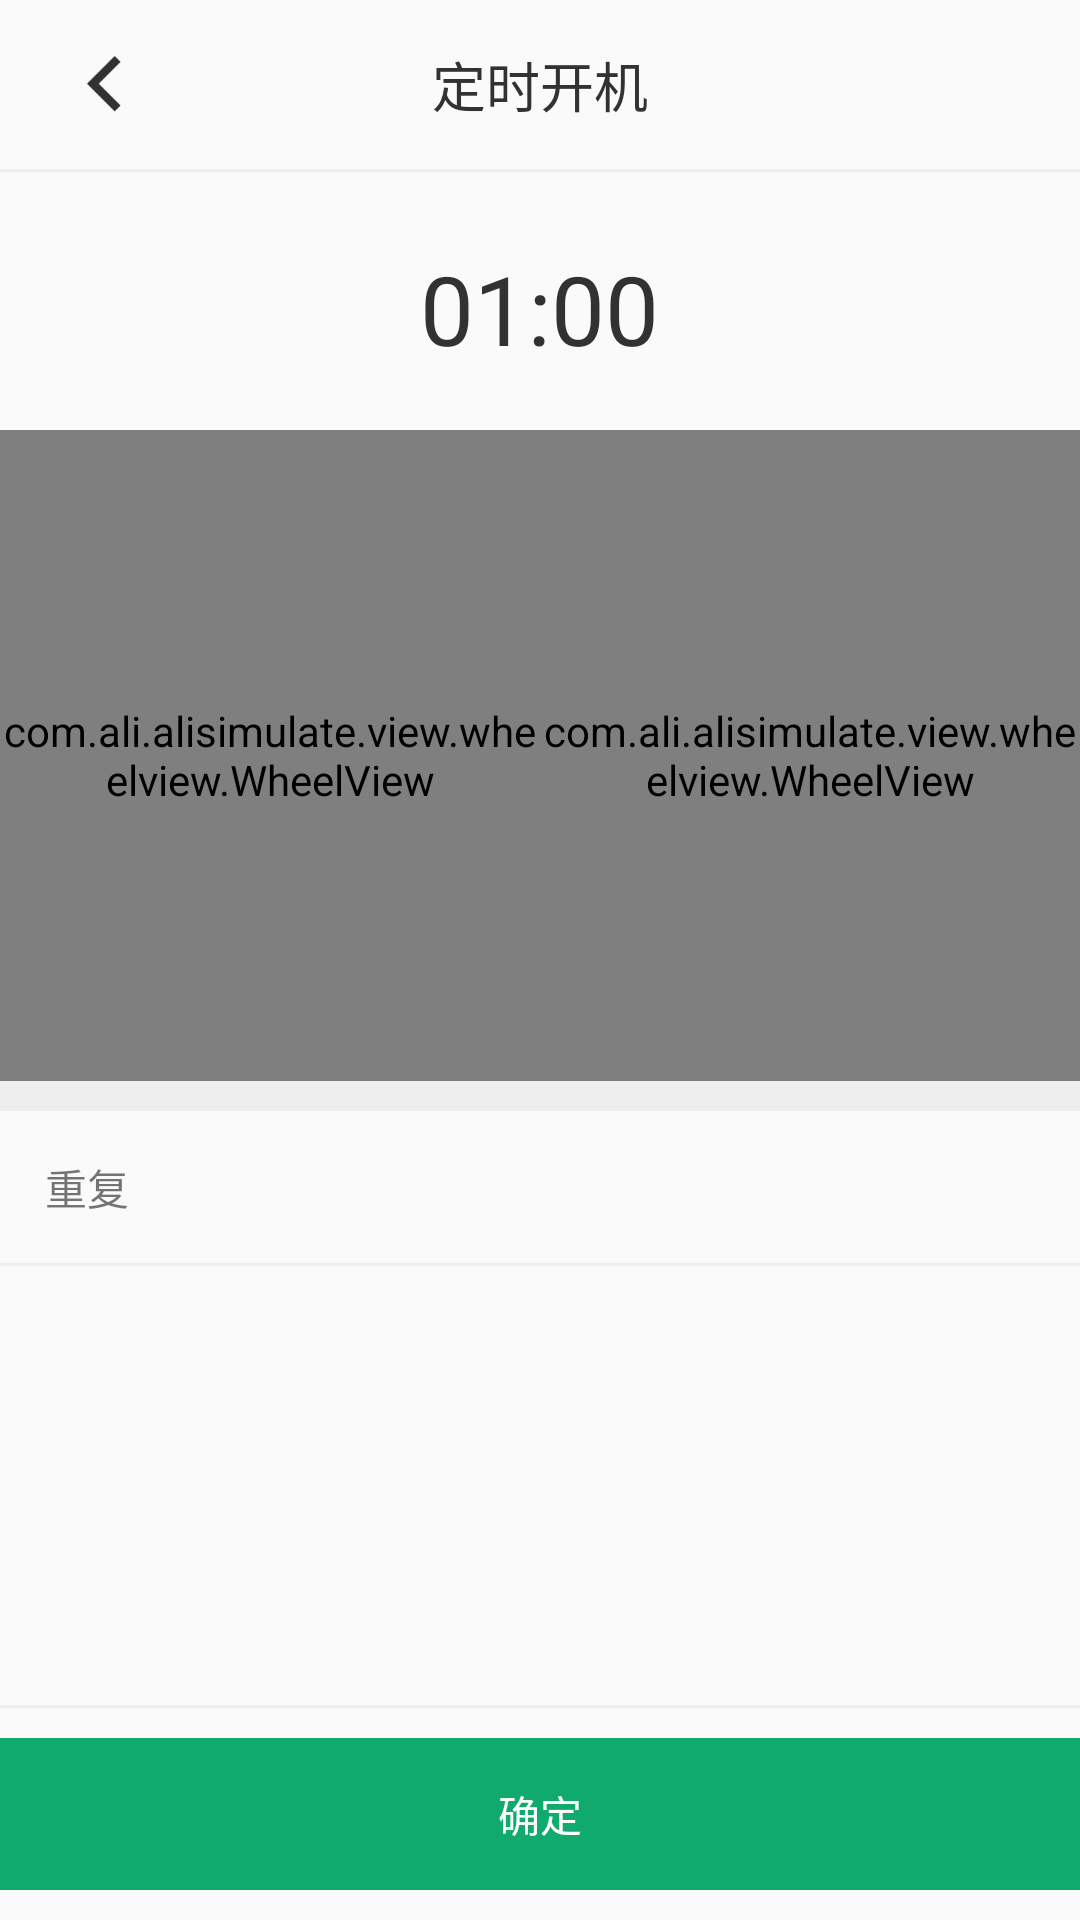

Icons on this 1080 × 1920 Android screen, each with its box as box(x1, y1, x2, y2):
back: box(87, 56, 121, 112)
